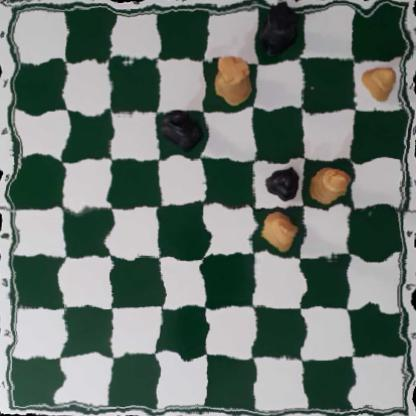black-king: (160, 110, 199, 152)
black-pawn: (265, 163, 299, 203)
black-rook: (256, 0, 295, 53)
white-bishop: (311, 165, 351, 204)
white-king: (258, 211, 299, 253)
white-pawn: (360, 65, 396, 105)
white-rook: (208, 56, 254, 103)
